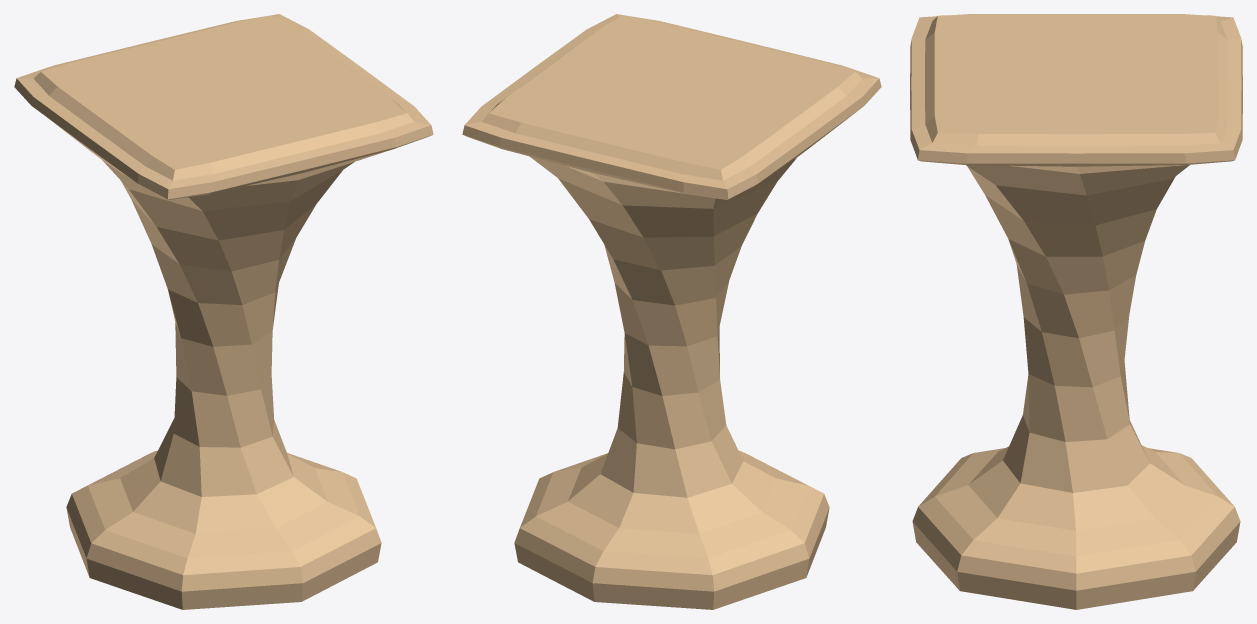
The model's file is AR Pedestal.fbx.
The picture shows the model from 3 angles, left to right: view 1: azimuth 30°, elevation 25°; view 2: azimuth 150°, elevation 25°; view 3: azimuth 270°, elevation 25°; orthographic projection. The views are drawn at different scales.
Visible parts, largest first — view 1: Cube; view 2: Cube; view 3: Cube.
Part boxes in pixels (x1,y1,x2,y2): Cube: (14,14,433,609); Cube: (462,14,881,609); Cube: (910,14,1242,609).
Size of the model in its own units: 65.59 by 102 by 65.59.
